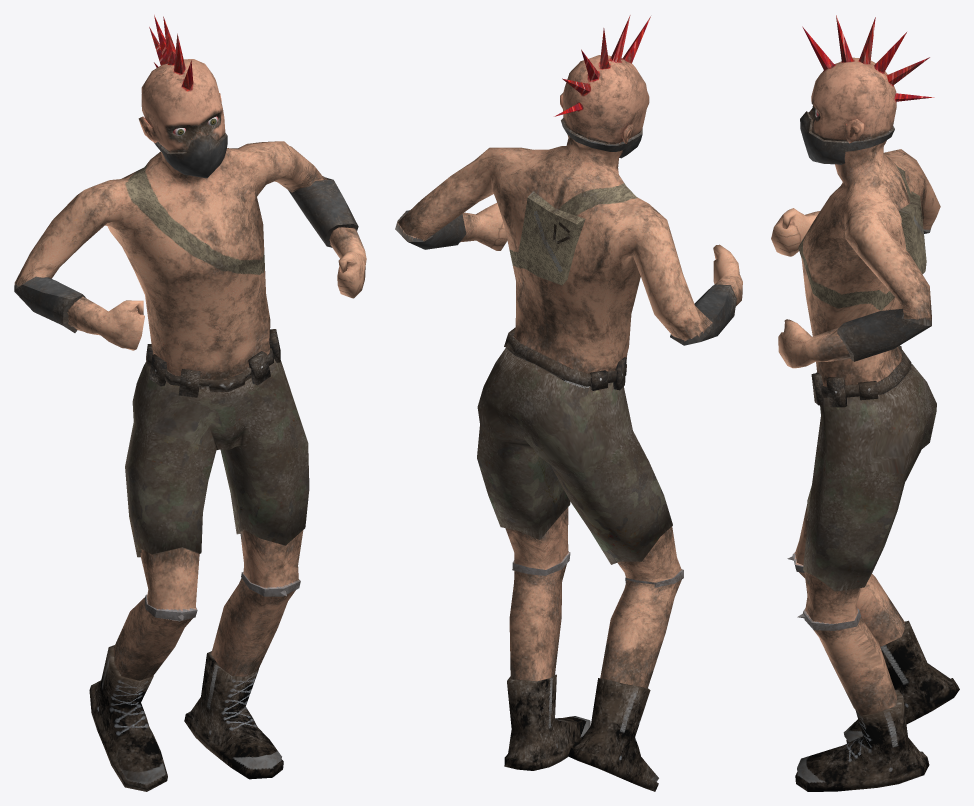
The model's file is Anim_ataque_d2_npc2.0026.obj.
3 views of the same model, side by side, from view 1: azimuth 30°, elevation 25°; view 2: azimuth 150°, elevation 25°; view 3: azimuth 270°, elevation 25° (orthographic). The views are drawn at different scales.
Visible parts, largest first — view 1: polySurface1; view 2: polySurface1; view 3: polySurface1.
Boxes of the visible parts, left/top/right/bottom form: polySurface1: left=14, top=15, right=366, bottom=791; polySurface1: left=395, top=15, right=742, bottom=791; polySurface1: left=771, top=15, right=959, bottom=791.
Size of the model in its own units: 4.31 by 10.07 by 2.31.
Materials: 2 (2 with a texture image).
